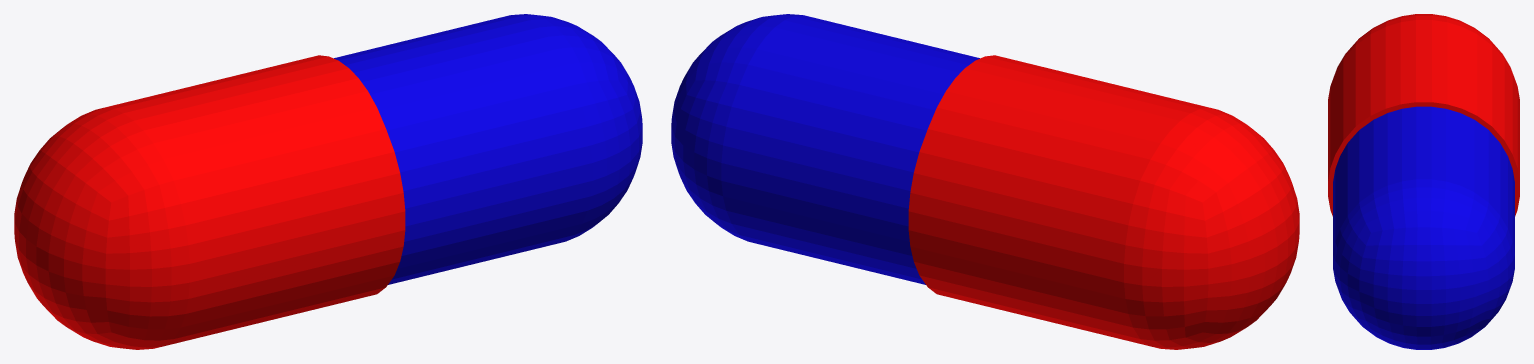
Rendered from BlueRedPillBlender.fbx.
3 renders of one model, left to right at view 1: azimuth 30°, elevation 25°; view 2: azimuth 150°, elevation 25°; view 3: azimuth 270°, elevation 25°, orthographic. The views are drawn at different scales.
Parts seen in each view (by area): view 1: Roundcube.001, Roundcube; view 2: Roundcube.001, Roundcube; view 3: Roundcube, Roundcube.001.
Part boxes in pixels (bbox=[...]): Roundcube.001: bbox=[14, 55, 405, 349]; Roundcube: bbox=[334, 14, 642, 284]; Roundcube.001: bbox=[908, 55, 1299, 349]; Roundcube: bbox=[671, 14, 979, 284]; Roundcube: bbox=[1333, 106, 1514, 349]; Roundcube.001: bbox=[1328, 14, 1519, 216].
Bounding box in the file's own units: 591 × 211 × 211.
